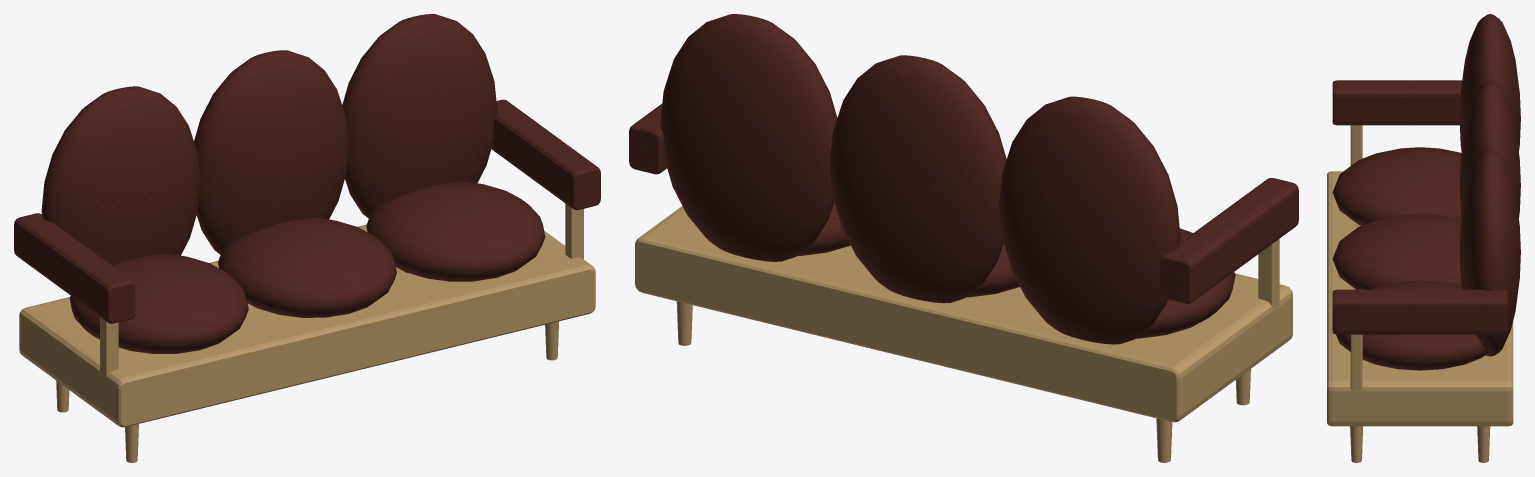
Rendered from seating.glb.
3 views of the same model, side by side, from view 1: azimuth 30°, elevation 25°; view 2: azimuth 150°, elevation 25°; view 3: azimuth 270°, elevation 25° (orthographic). The views are drawn at different scales.
Visible parts, largest first — view 1: seat-base, back-0, back-0.72, back--0.72, cushion-0.72, cushion-0, cushion--0.72, arm--1, arm-1, arm-support--1, arm-support-1; view 2: seat-base, back-0, back--0.72, back-0.72, arm--1, cushion--0.72, arm-1, arm-support--1, cushion-0, cushion-0.72; view 3: seat-base, back-0.72, arm-1, cushion--0.72, cushion-0, arm--1, cushion-0.72, back--0.72, back-0, arm-support-1, arm-support--1, leg-1.02--0.29 (+1 smaller).
Part boxes in pixels (left/top/right/bottom): seat-base: left=19, top=224, right=595, bottom=427; back-0: left=194, top=50, right=348, bottom=254; back-0.72: left=342, top=14, right=497, bottom=218; back--0.72: left=41, top=86, right=200, bottom=265; cushion-0.72: left=366, top=181, right=545, bottom=281; cushion-0: left=218, top=217, right=396, bottom=317; cushion--0.72: left=69, top=253, right=248, bottom=353; arm--1: left=14, top=213, right=135, bottom=323; arm-1: left=491, top=99, right=600, bottom=209; arm-support--1: left=100, top=317, right=118, bottom=378; arm-support-1: left=565, top=203, right=583, bottom=259; seat-base: left=635, top=206, right=1292, bottom=422; back-0: left=830, top=55, right=1006, bottom=303; back--0.72: left=999, top=96, right=1180, bottom=344; back-0.72: left=660, top=14, right=837, bottom=261; arm--1: left=1160, top=178, right=1298, bottom=303; cushion--0.72: left=1136, top=228, right=1235, bottom=338; arm-1: left=629, top=103, right=666, bottom=174; arm-support--1: left=1258, top=239, right=1279, bottom=309; cushion-0: left=967, top=244, right=1019, bottom=297; cushion-0.72: left=797, top=203, right=850, bottom=255; seat-base: left=1327, top=171, right=1513, bottom=426; back-0.72: left=1459, top=147, right=1520, bottom=356; arm-1: left=1332, top=289, right=1507, bottom=334; cushion--0.72: left=1332, top=147, right=1461, bottom=225; cushion-0: left=1332, top=214, right=1461, bottom=289; arm--1: left=1332, top=80, right=1462, bottom=125; cushion-0.72: left=1336, top=280, right=1488, bottom=370; back--0.72: left=1459, top=14, right=1520, bottom=151; back-0: left=1459, top=80, right=1520, bottom=217; arm-support-1: left=1350, top=334, right=1362, bottom=390; arm-support--1: left=1350, top=125, right=1362, bottom=165; leg-1.02--0.29: left=1477, top=426, right=1490, bottom=462.
Bounding box in the file's own units: 2.4 × 1.41 × 0.885.
2 materials, 1 textured.
